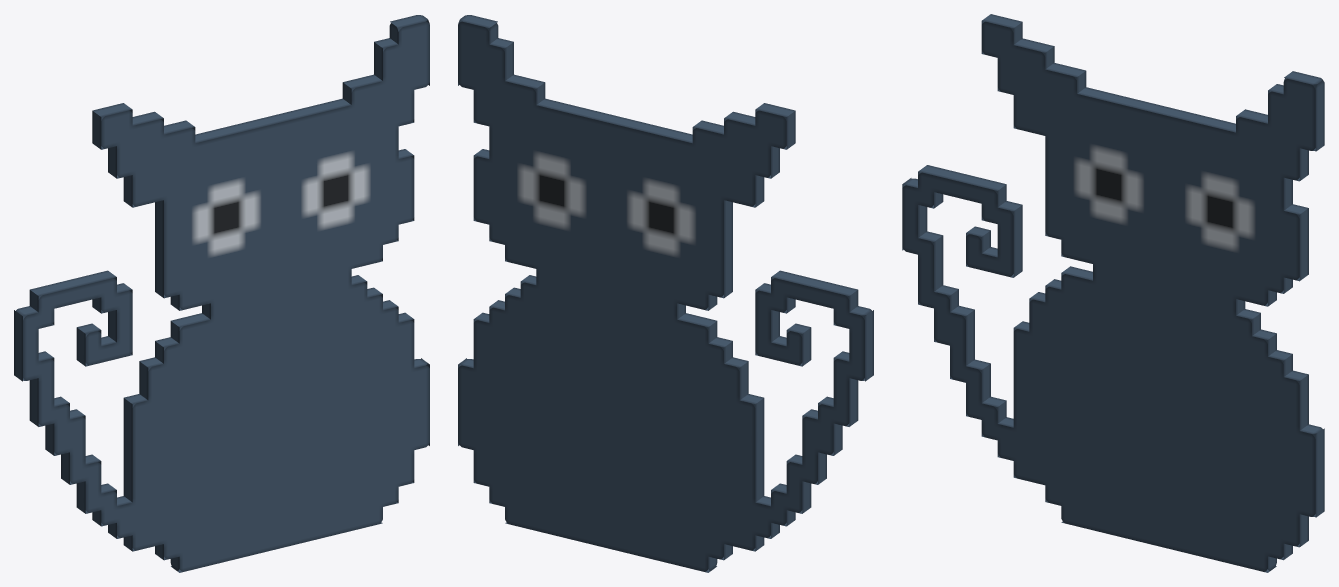
File: cat2N.fbx
The picture shows the model from 3 angles, left to right: view 1: azimuth 30°, elevation 25°; view 2: azimuth 150°, elevation 25°; view 3: azimuth 330°, elevation 25°; orthographic projection.
Visible parts, largest first — view 1: generated; view 2: generated; view 3: generated.
Part boxes in pixels (box(x1,y1,x2,y2)): generated: box(14, 15, 429, 572); generated: box(458, 15, 873, 572); generated: box(902, 14, 1324, 572).
Bounding box in the file's own units: 260 × 300 × 10.
